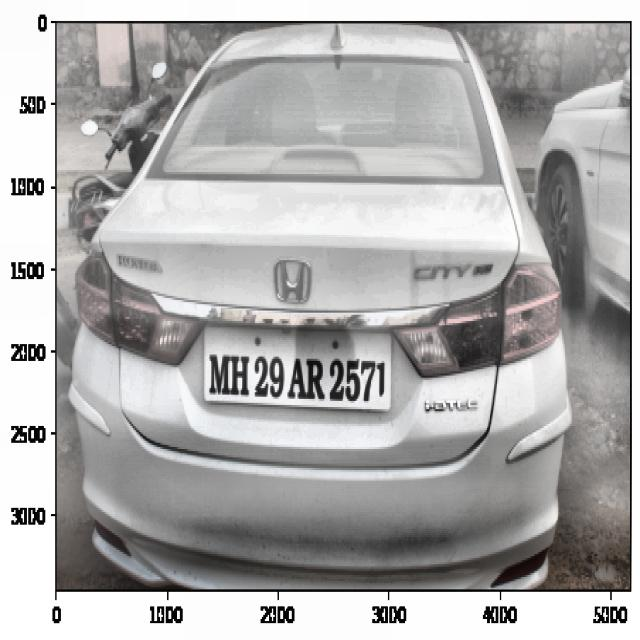license_plate: (206, 340, 393, 405)
